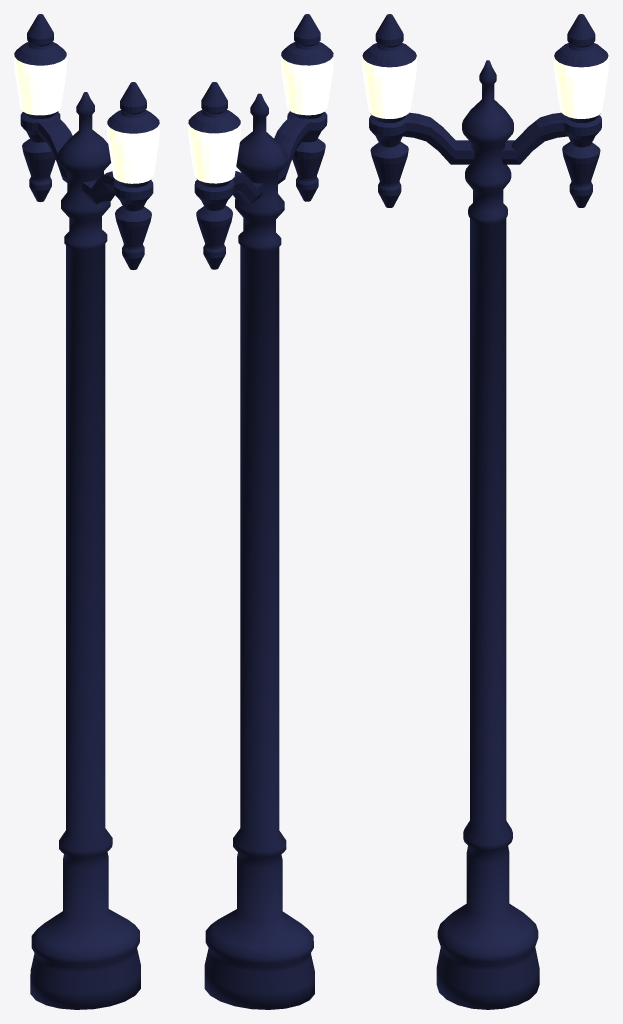
Rendered from OldStreetLamp.fbx.
The picture shows the model from 3 angles, left to right: view 1: azimuth 30°, elevation 25°; view 2: azimuth 150°, elevation 25°; view 3: azimuth 270°, elevation 25°; orthographic projection. The views are drawn at different scales.
Visible parts, largest first — view 1: Cylinder.043; view 2: Cylinder.043; view 3: Cylinder.043.
Part boxes in pixels (x1,y1,x2,y2): Cylinder.043: (14, 14, 159, 1009); Cylinder.043: (188, 14, 333, 1009); Cylinder.043: (362, 14, 608, 1009).
Size of the model in its own units: 149 by 1334 by 307.
